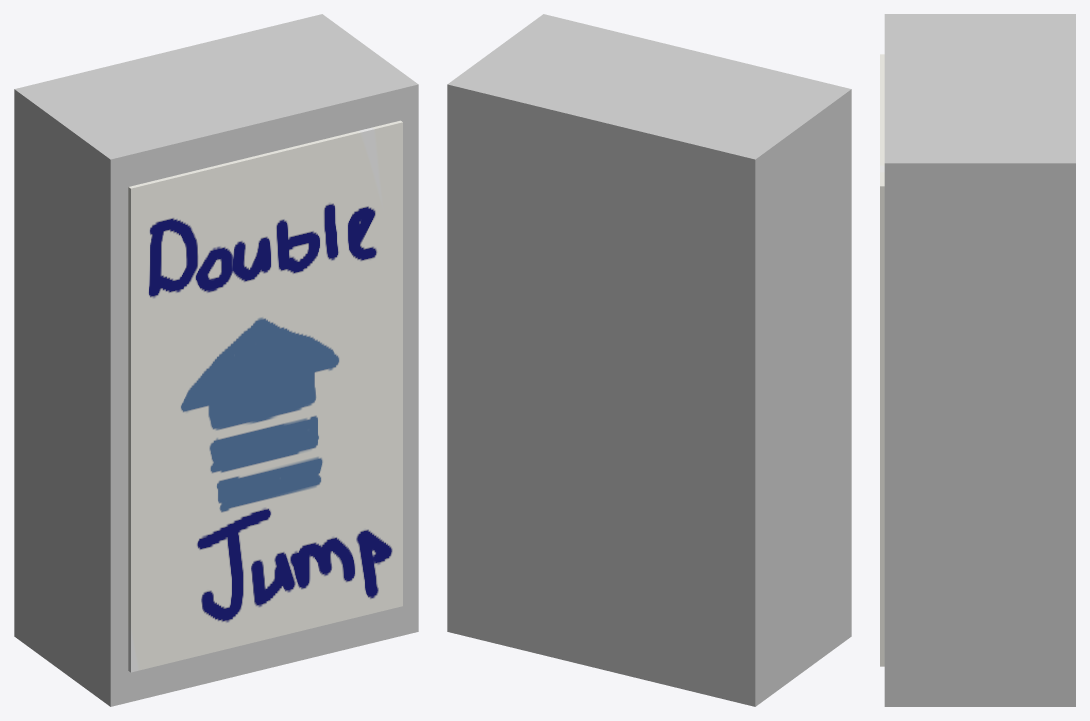
The model's file is Double Jump Upgrade.glb.
3 renders of one model, left to right at view 1: azimuth 30°, elevation 25°; view 2: azimuth 150°, elevation 25°; view 3: azimuth 270°, elevation 25°, orthographic.
Visible parts, largest first — view 1: Cube.001, Cube; view 2: Cube; view 3: Cube, Cube.001.
Part boxes in pixels (x1=…): Cube.001: x1=128, y1=120, x2=402, y2=672; Cube: x1=14, y1=14, x2=418, y2=706; Cube: x1=447, y1=14, x2=851, y2=706; Cube: x1=884, y1=14, x2=1075, y2=706; Cube.001: x1=880, y1=54, x2=884, y2=666.
Size of the model in its own units: 1.07 by 1.81 by 0.5908.
2 materials, 1 textured.
